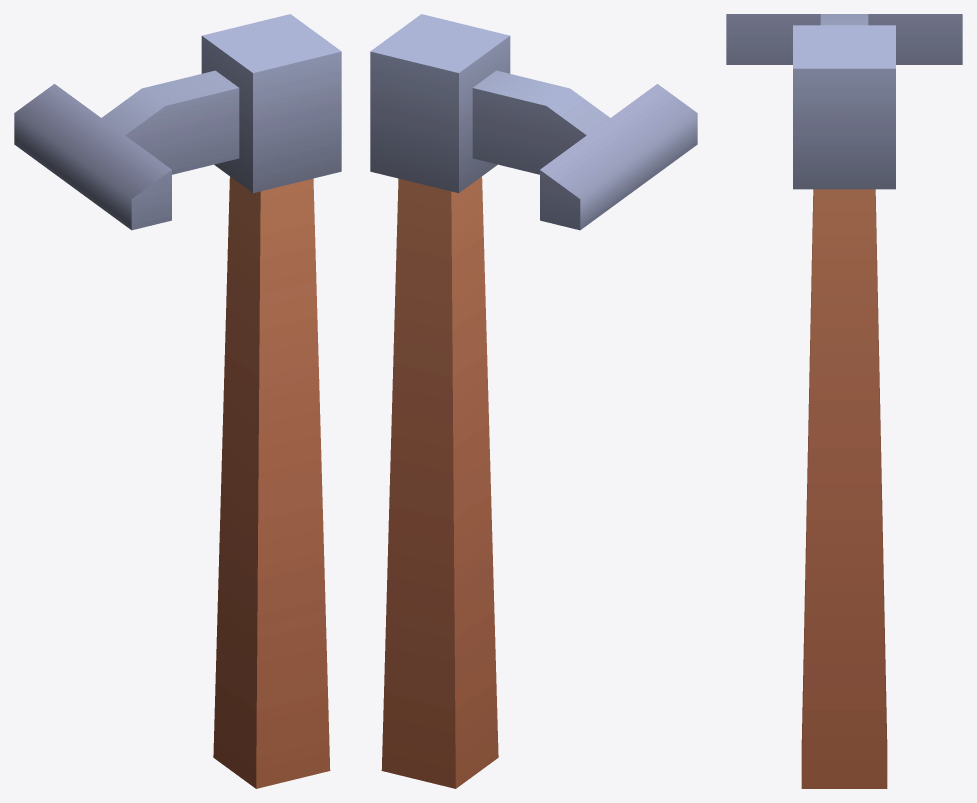
Rendered from k-survival-tool-hoe.glb.
3 renders of one model, left to right at view 1: azimuth 30°, elevation 25°; view 2: azimuth 150°, elevation 25°; view 3: azimuth 270°, elevation 25°, orthographic.
Parts seen in each view (by area): view 1: tool-hoe; view 2: tool-hoe; view 3: tool-hoe.
Part boxes in pixels (box(x1,y1,x2,y2)): tool-hoe: box(14, 14, 341, 788); tool-hoe: box(370, 14, 697, 788); tool-hoe: box(726, 14, 962, 788).
Size of the model in its own units: 0.0848 by 0.24 by 0.0709.
Materials: 1 (1 with a texture image).
